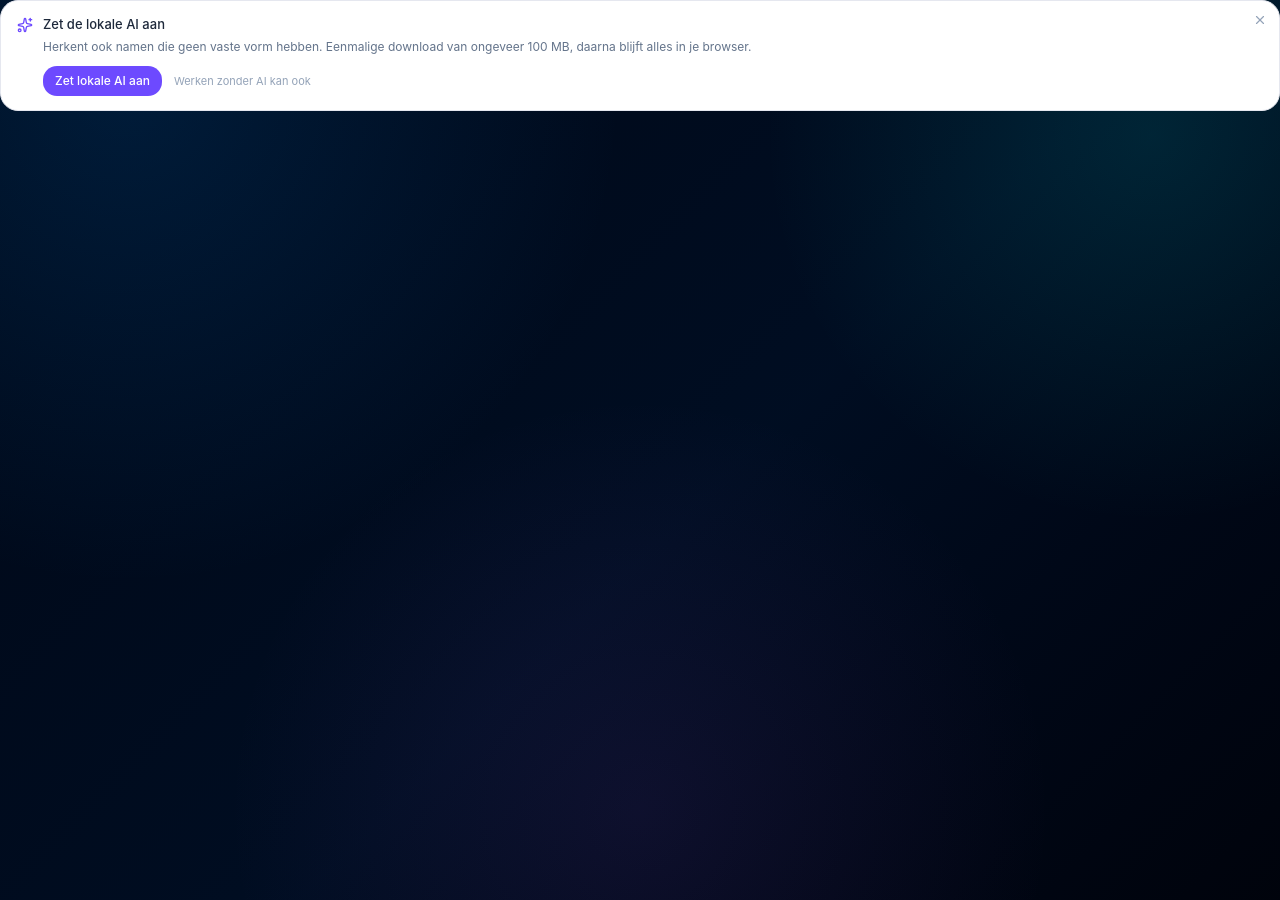
Test: LocalAiOffer › kan voor deze sessie worden weggeklikt
The width and height of the screenshot is (1280, 900).
Click the button named "Uitnodiging sluiten" at (1260, 20), box [1249, 9, 1271, 31]
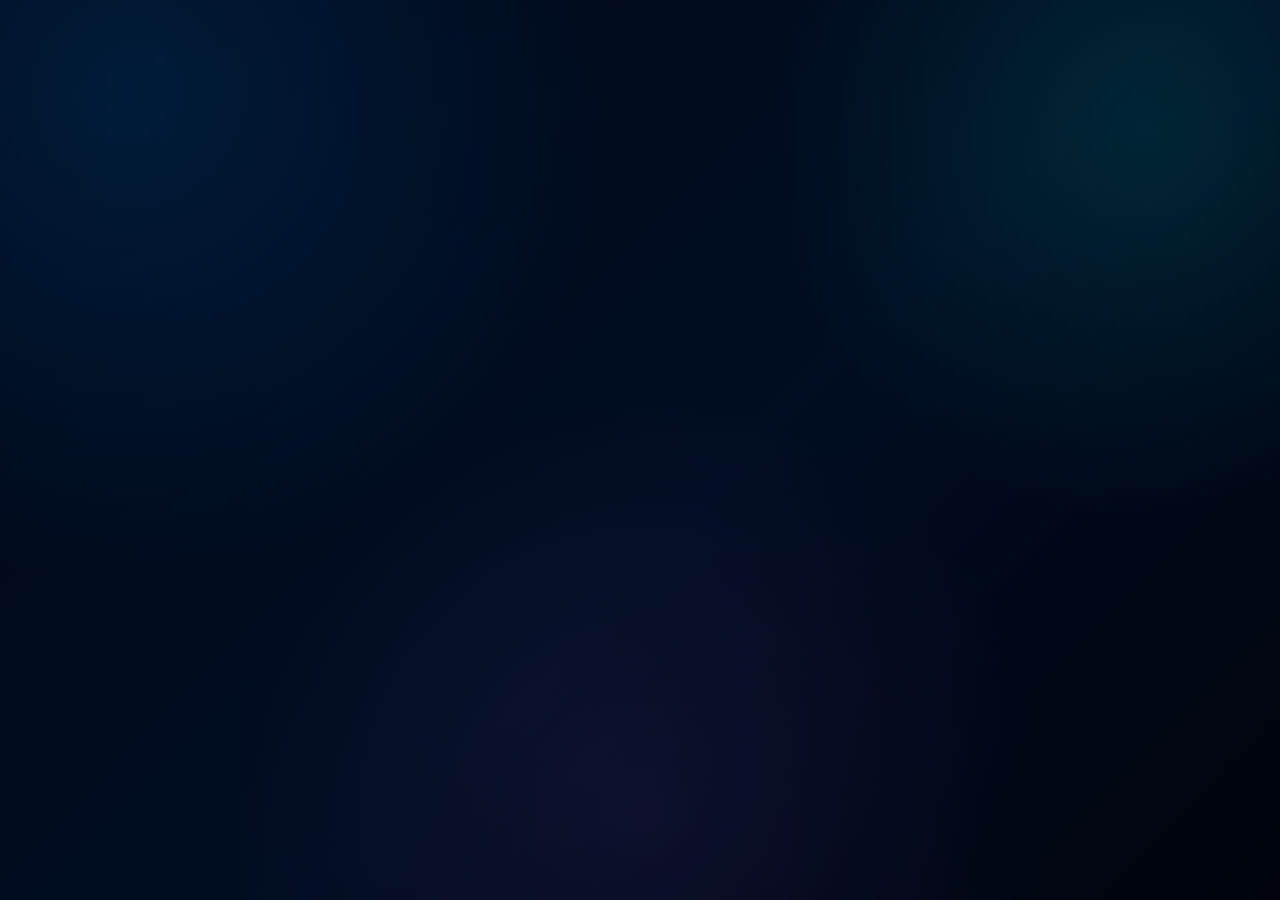
Expected: the text "Zet de lokale AI aan" is gone
